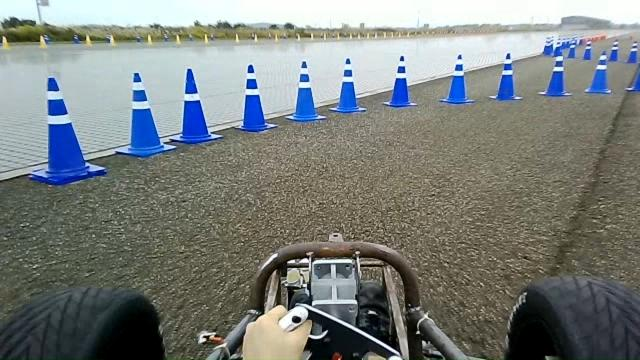blue cone: (28, 76, 107, 185), (115, 72, 177, 157), (168, 67, 222, 144), (234, 63, 276, 132), (284, 60, 326, 122), (329, 57, 367, 113), (382, 55, 418, 107), (439, 53, 475, 104), (488, 52, 522, 101), (544, 52, 572, 96)
